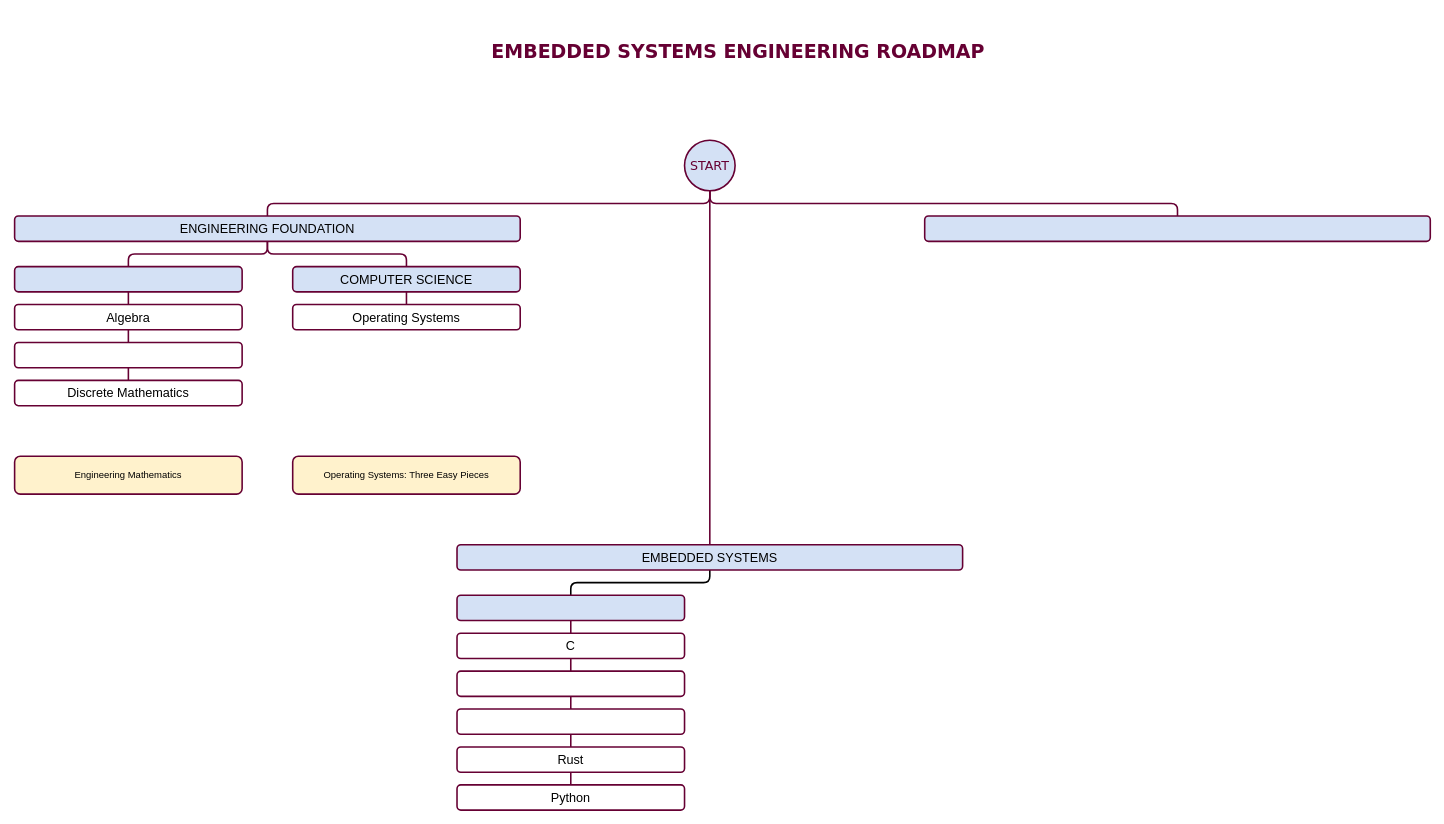
This 1444x824 diagram has some shape labels left out. Here are the shapes that lost their labels. From the top down, the centre of each, then its label:
(1177,228): SOFT SKILLS
(128,278): MATHEMATICS
(128,354): Calculus
(570,607): PROGRAMMING LANGUAGES
(570,683): C++
(570,721): Assembly
